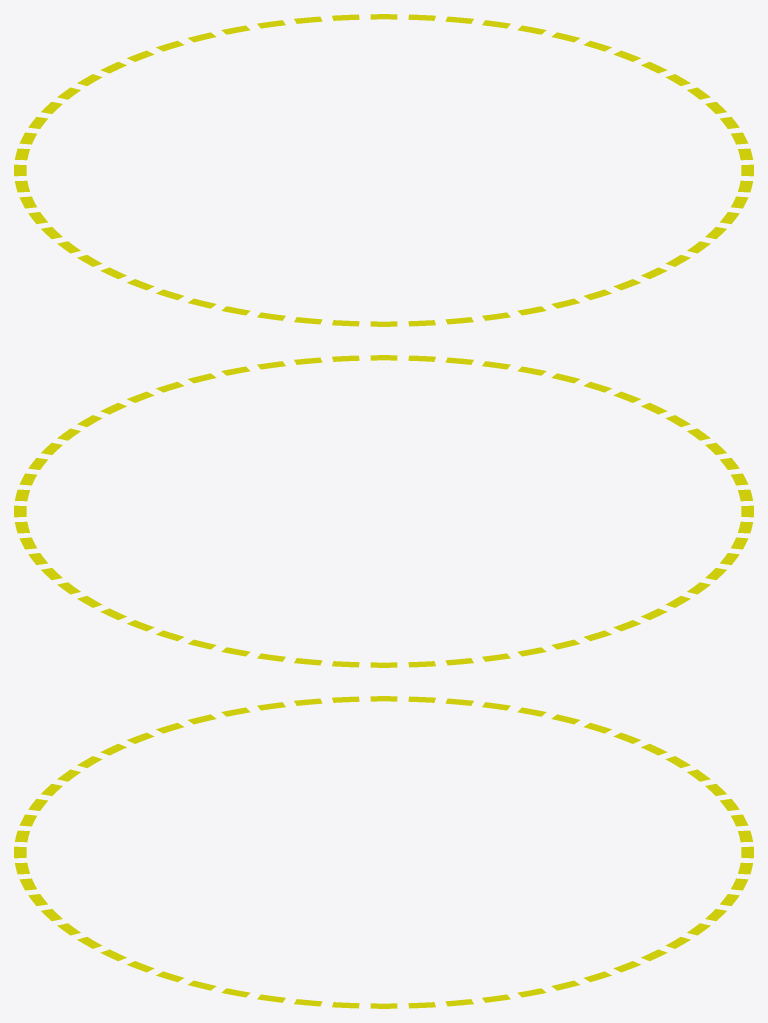
File: xinggui_4.fbx
3 renders of one model, top to bottom at view 1: azimuth 30°, elevation 25°; view 2: azimuth 150°, elevation 25°; view 3: azimuth 270°, elevation 25°, orthographic.
Parts seen in each view (by area): view 1: x4; view 2: x4; view 3: x4.
Part boxes in pixels (x1,y1,x2,y2): x4: (14,14,753,326); x4: (14,355,753,667); x4: (14,696,753,1008).
Size of the model in its own units: 1321 by 7.63e-06 by 1321.
